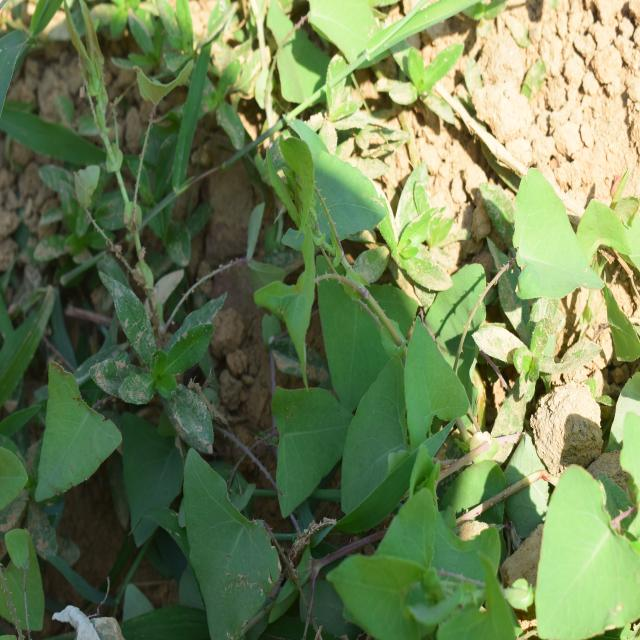Asiatic_Smartweed: (246, 256, 477, 514), (342, 486, 530, 637), (168, 460, 292, 638), (28, 352, 129, 513)
